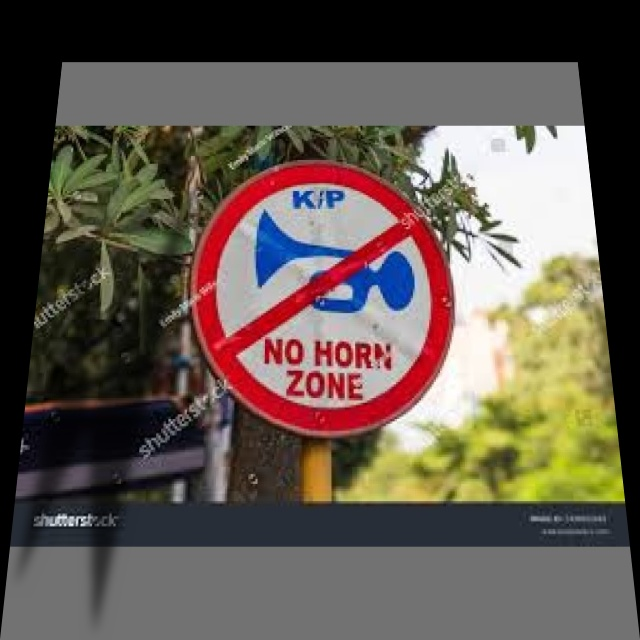Horn_Prohibited: (192, 162, 455, 428)
